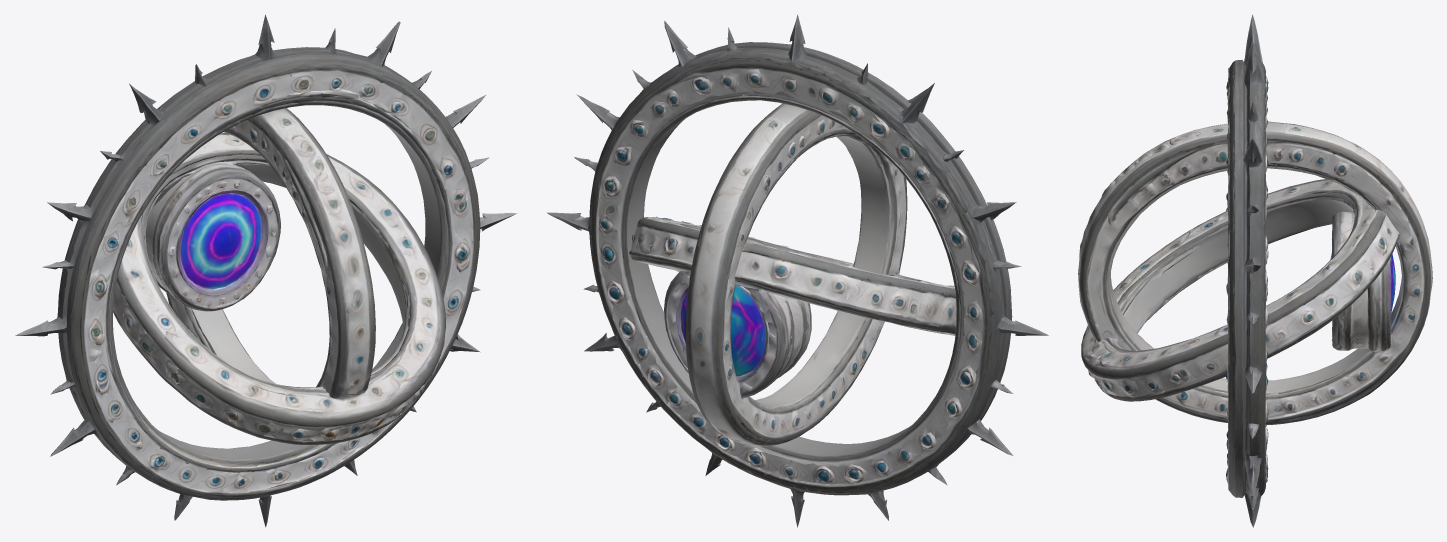
Rendered from ophan.glb.
3 renders of one model, left to right at view 1: azimuth 30°, elevation 25°; view 2: azimuth 150°, elevation 25°; view 3: azimuth 270°, elevation 25°, orthographic. The views are drawn at different scales.
Visible parts, largest first — view 1: Mesh; view 2: Mesh; view 3: Mesh.
Boxes of the visible parts, <box> form: Mesh: <box>15,14,517,527</box>; Mesh: <box>547,14,1048,527</box>; Mesh: <box>1078,14,1432,527</box>.
Bounding box in the file's own units: 1.87 × 1.82 × 1.24.
1 material, 1 textured.
